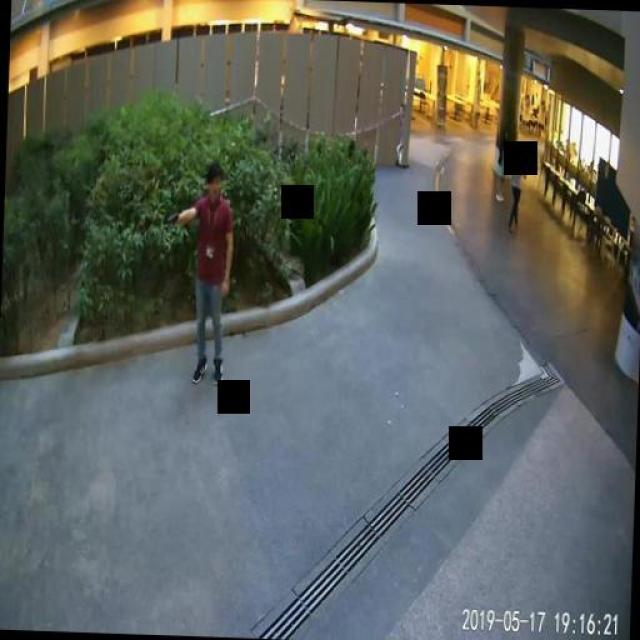gun: (165, 209, 177, 225)
